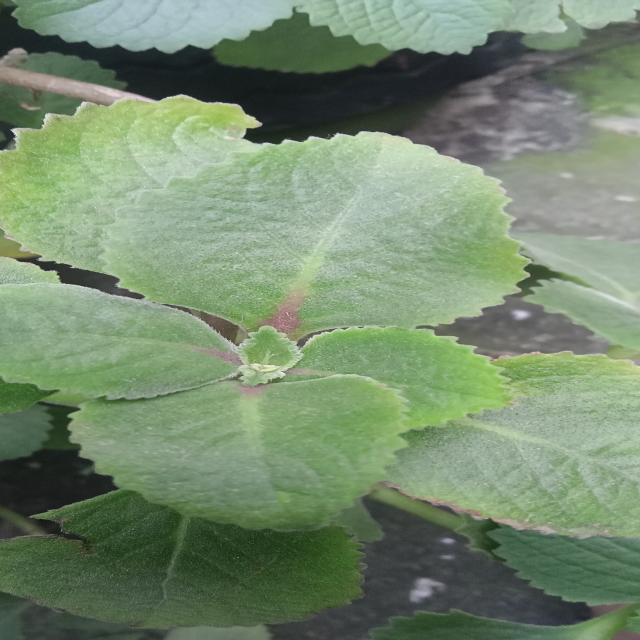Oregano: (1, 69, 558, 554)
